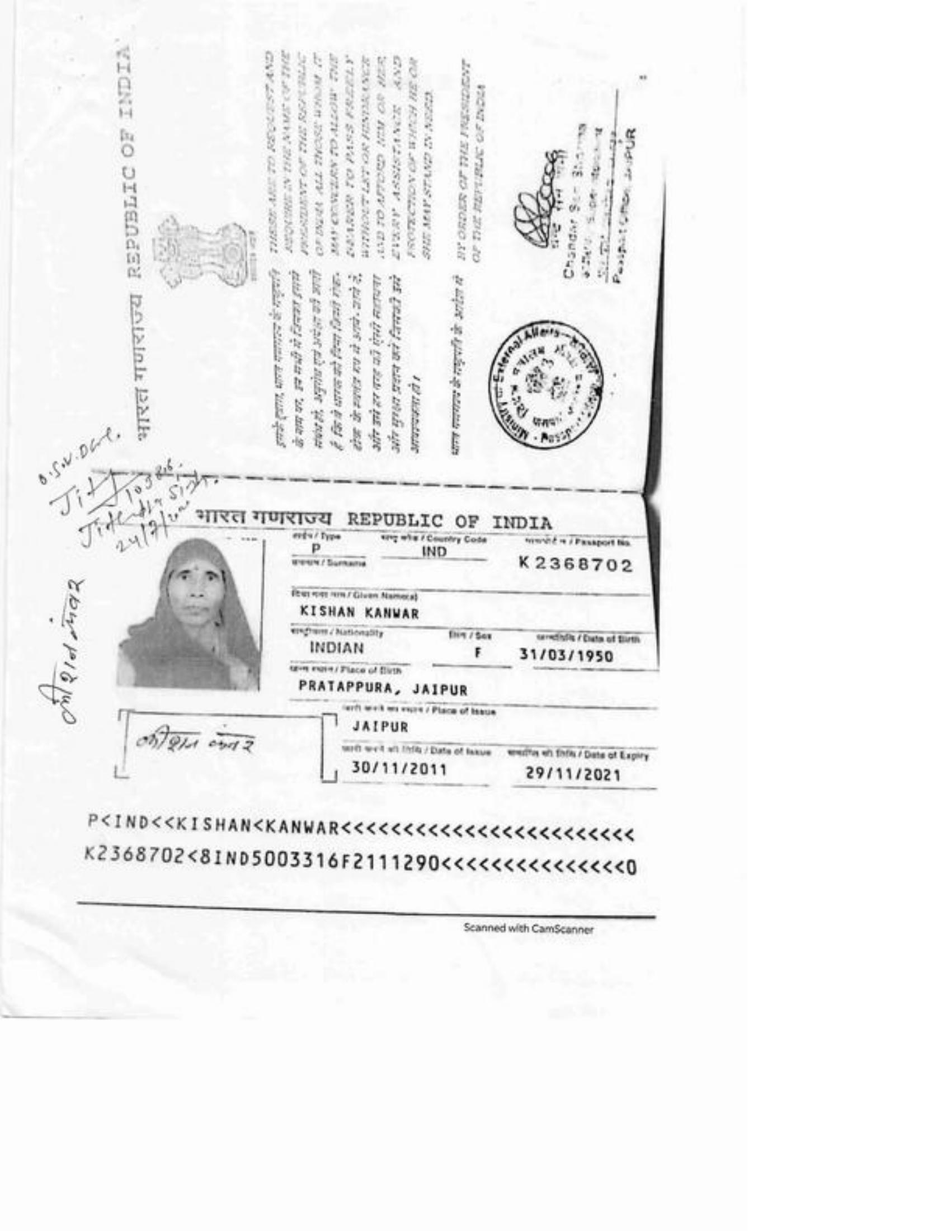DOB: (512, 641, 623, 668)
country_code: (411, 543, 455, 561)
date_of_expiry: (512, 759, 630, 788)
date_of_issue: (345, 754, 454, 787)
details: (71, 802, 641, 879)
name: (287, 586, 437, 624)
nationality: (290, 636, 380, 663)
passport_no: (510, 549, 637, 576)
photo: (125, 544, 260, 690)
place_of_birth: (293, 672, 484, 704)
place_of_issue: (349, 713, 419, 738)
sex: (459, 638, 496, 665)
sign: (132, 716, 262, 765)
type: (298, 537, 337, 561)
